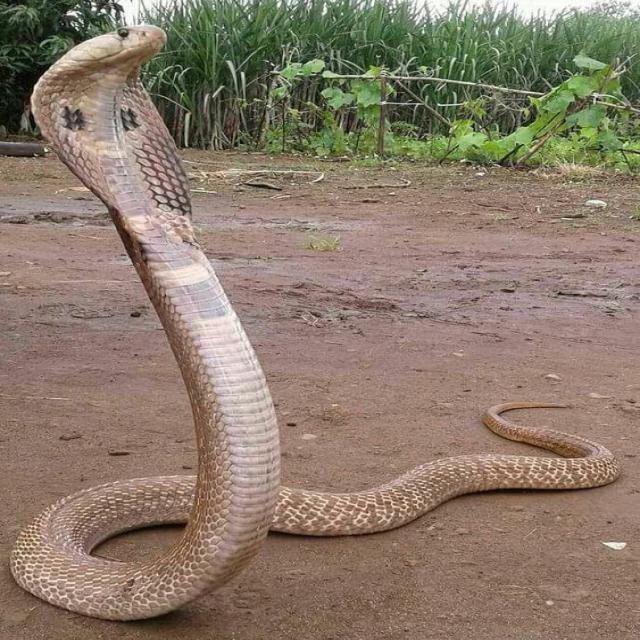Snake: (0, 2, 629, 626)
